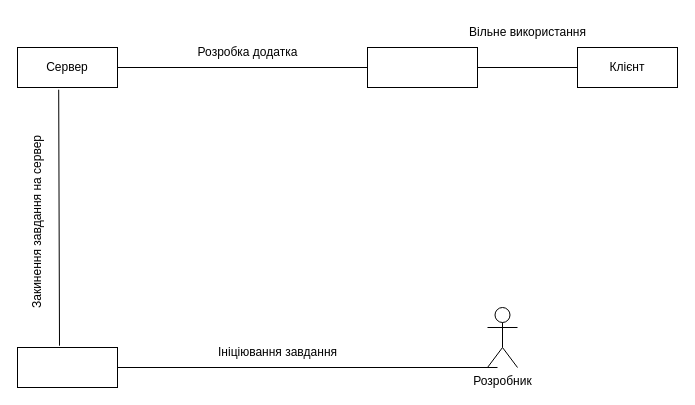
The diagram is 695 pixels wide and 405 high, and some of its shapes have lost their labels. Here are the shapes that lost their labels. From the top down, the centre of each, then its label:
At pixel 422 67: "Клієнтський додаток".
At pixel 67 367: "Код розробника".
